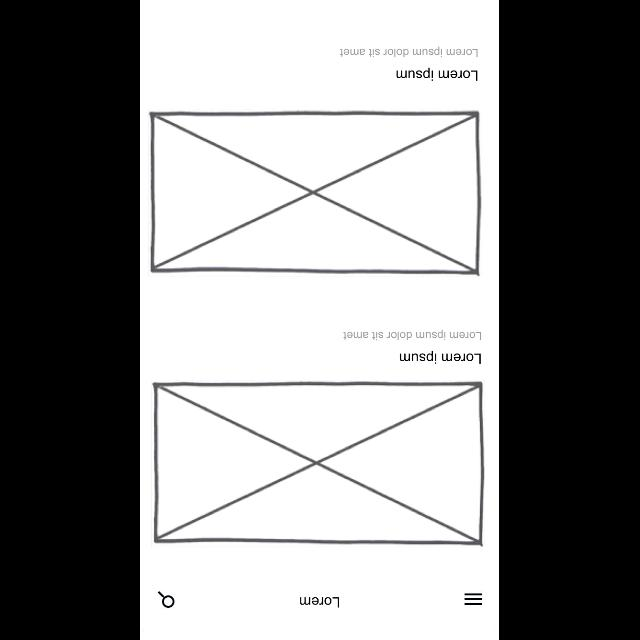icon: (158, 590, 175, 608), (465, 593, 483, 605)
image: (152, 381, 486, 547), (150, 110, 482, 274)
text: (341, 46, 479, 58), (344, 330, 482, 340), (400, 350, 482, 364), (396, 67, 478, 81), (300, 596, 340, 608)
